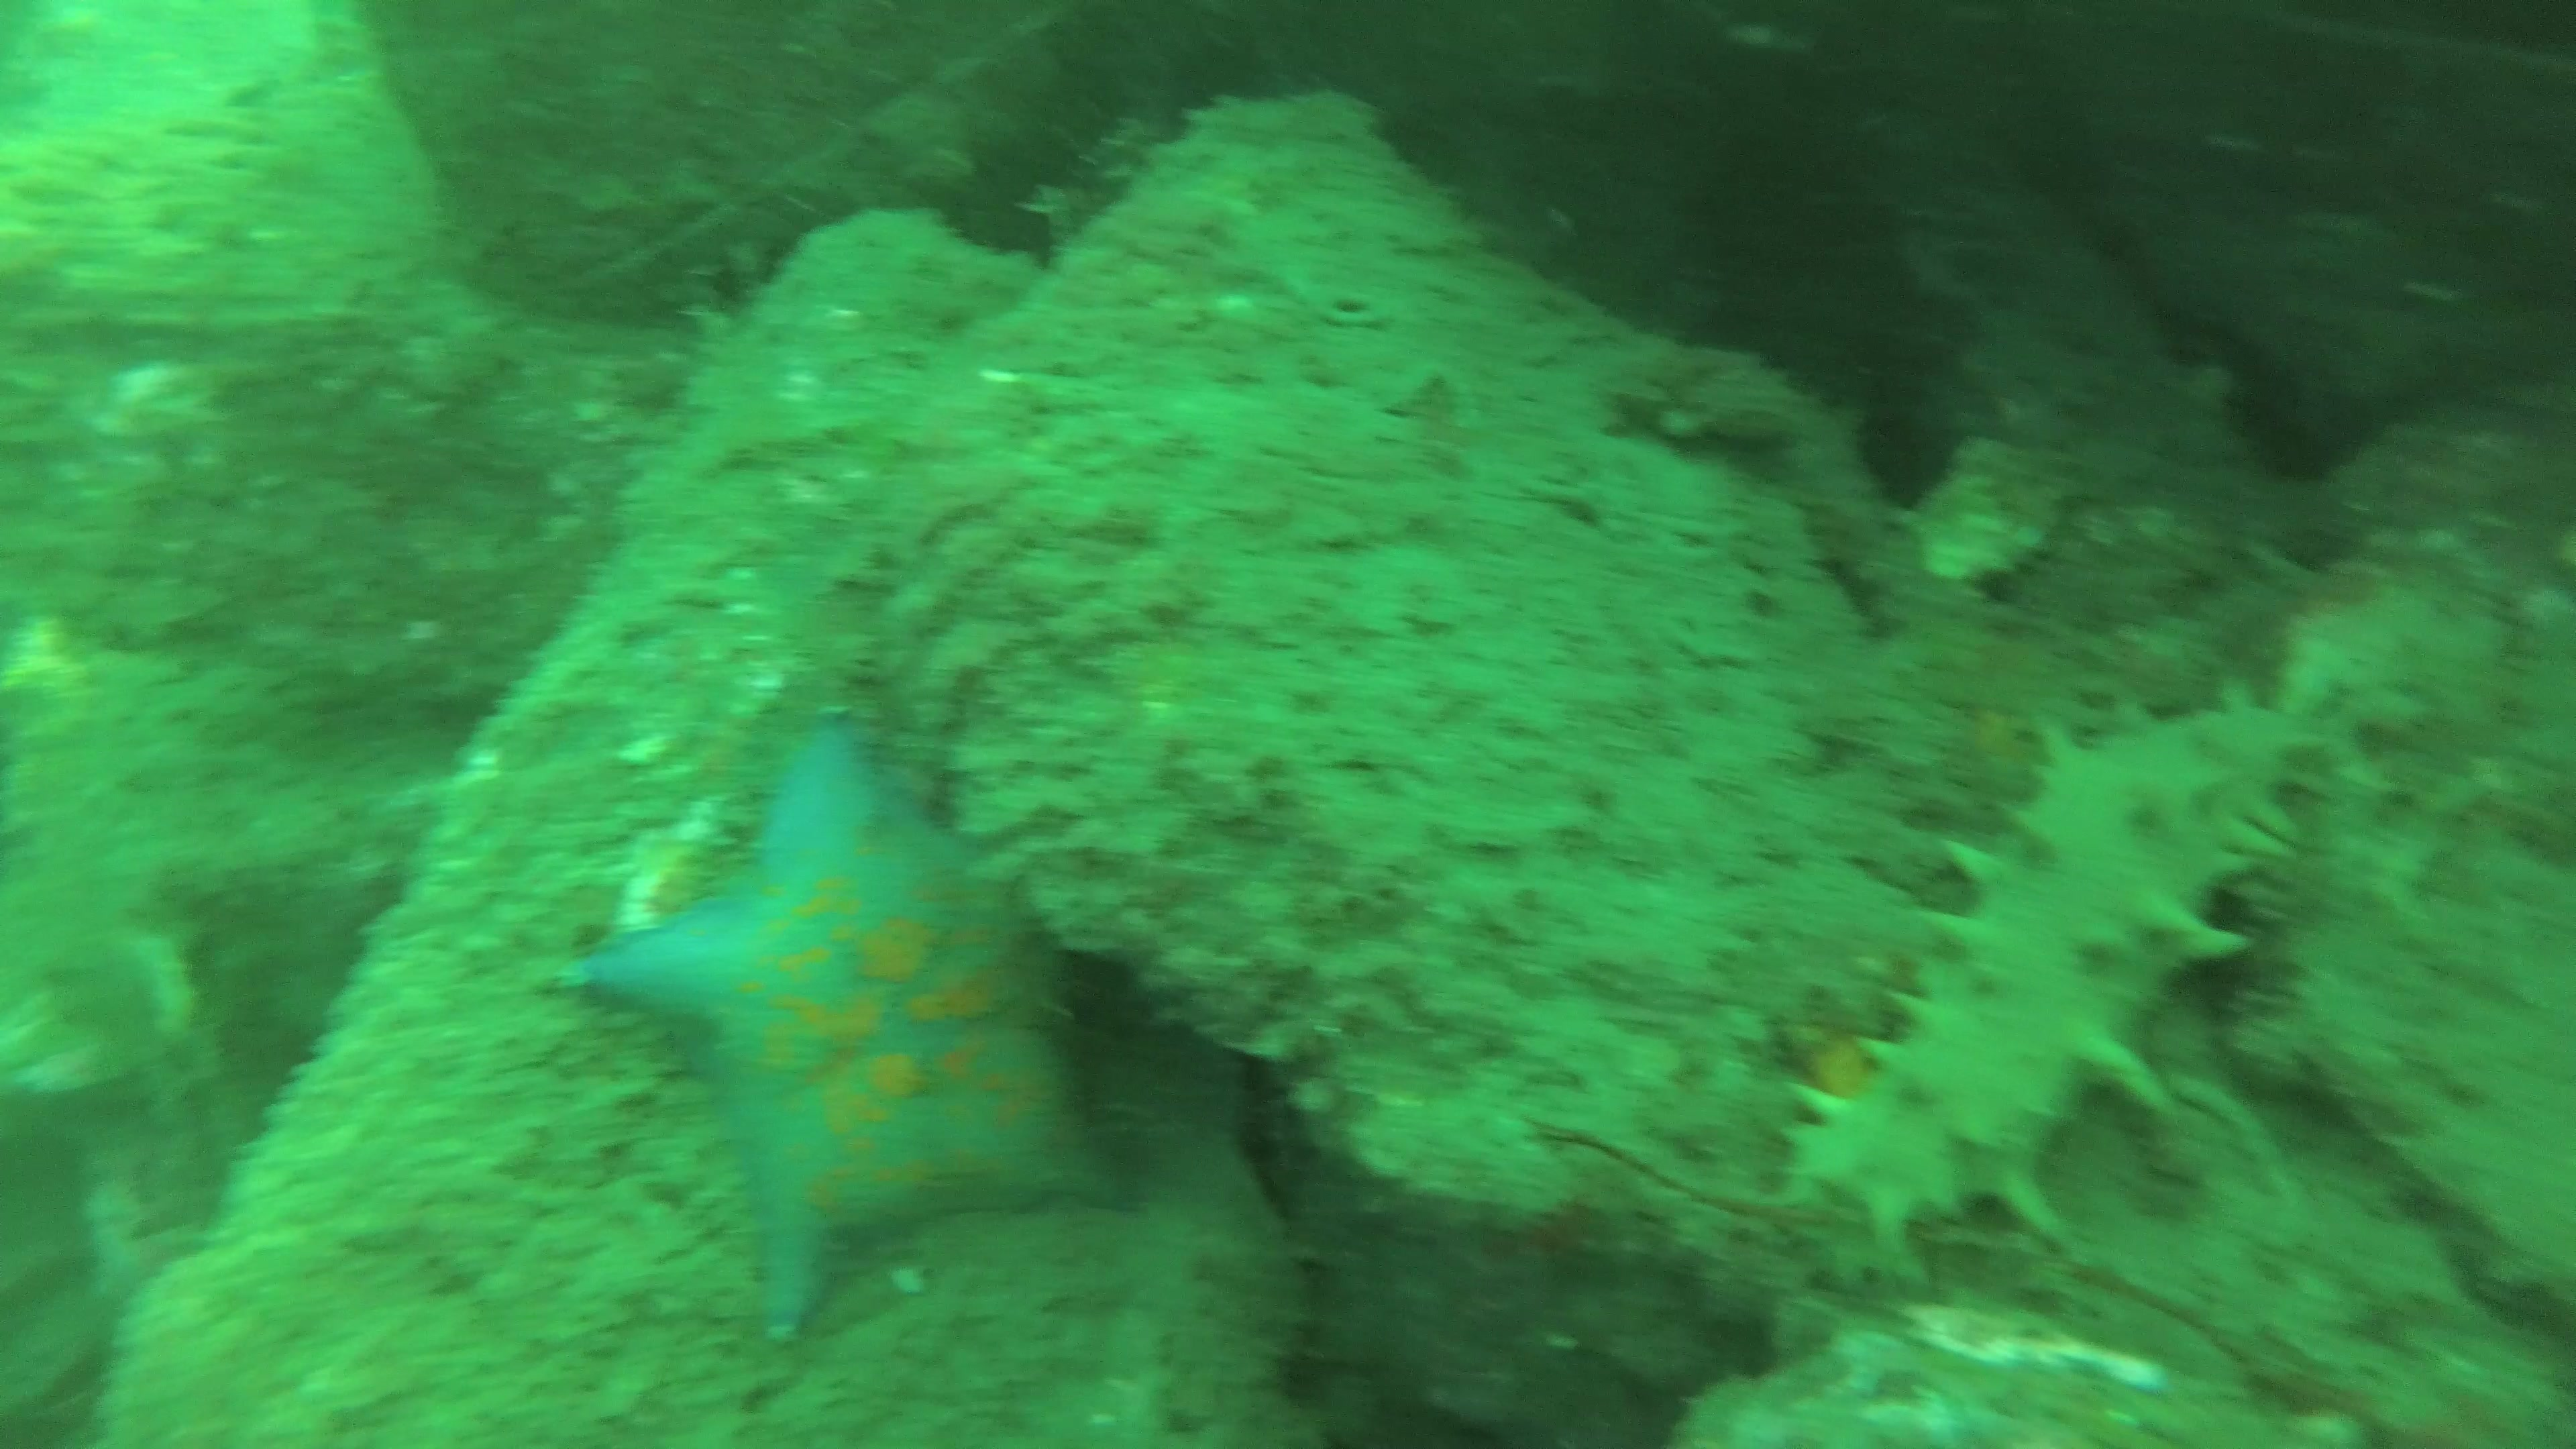holothurian: (1780, 672, 2318, 1258)
starfish: (543, 706, 1138, 1346)
